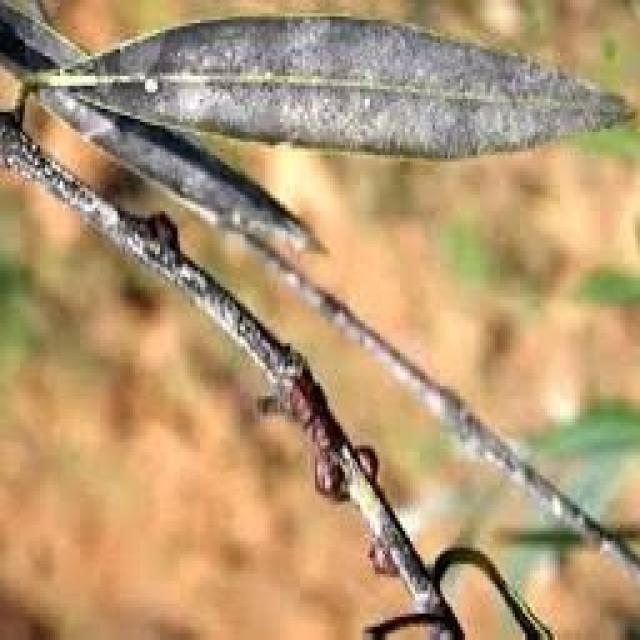Black Scale: (282, 345, 383, 505)
